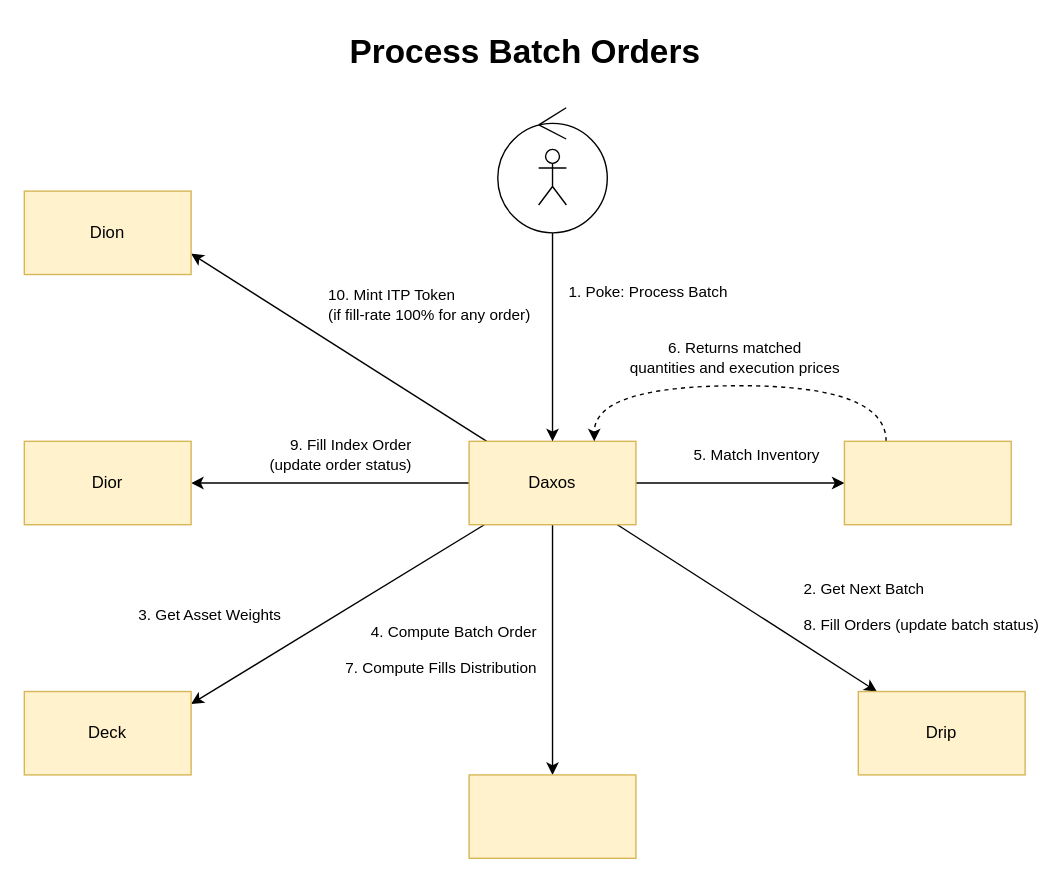
The diagram is 1063 pixels wide and 883 high, and some of its shapes have lost their labels. The box of each missing label's shape, as (x1, y1, x2, y2) in pixels:
Disolver: (468, 774, 636, 858)
Dres: (843, 440, 1011, 525)
